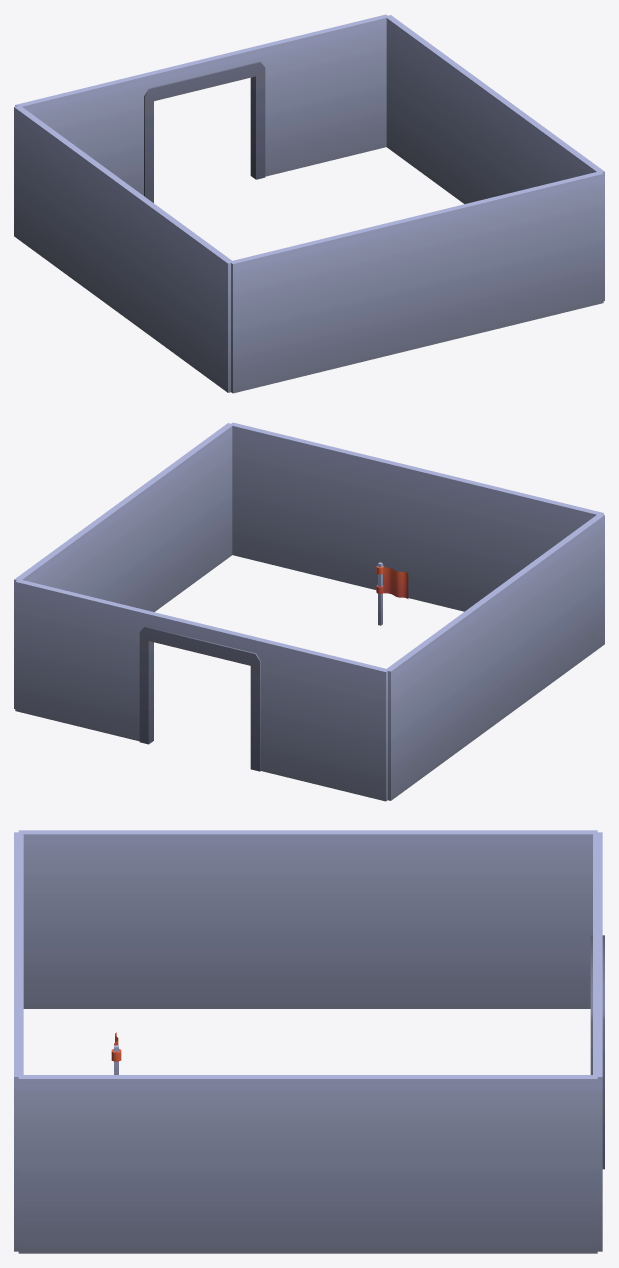
Rendered from laboratory.glb.
3 renders of one model, top to bottom at view 1: azimuth 30°, elevation 25°; view 2: azimuth 150°, elevation 25°; view 3: azimuth 270°, elevation 25°, orthographic. The views are drawn at different scales.
Visible parts, largest first — view 1: wall#O-B# (9), wall#O-B# (10), wall#O-B# (11), wall#O-B# (2), wall#O-B# (8), wall#O-B# (7), wall#O-B# (6), wall#O-B# (3), wall#O-B# (4), wall-doorway-garage#O-M#, wall#O-B# (1), wall#O-B# (5); view 2: wall#O-B# (2), wall#O-B# (11), wall#O-B# (1), wall#O-B# (10), wall#O-B# (6), wall#O-B# (7), wall#O-B# (8), wall#O-B# (5), wall#O-B# (4), wall-doorway-garage#O-M#, wall#O-B# (9), wall#O-B# (3) (+1 smaller); view 3: wall#O-B# (4), wall#O-B# (7), wall#O-B# (5), wall#O-B# (3), wall#O-B# (8), wall#O-B# (6), wall-doorway-garage#O-M#, wall#O-B# (2), wall#O-B# (11), wall#O-B# (10), wall#O-B# (9), wall#O-B# (1).
Boxes of the visible parts, x1,y1,x2,y2 form: wall#O-B# (9): (229,231,356,393); wall#O-B# (10): (353,201,479,362); wall#O-B# (11): (477,172,603,332); wall#O-B# (2): (263,14,388,174); wall#O-B# (8): (156,210,231,392); wall#O-B# (7): (85,157,162,340); wall#O-B# (6): (14,106,90,287); wall#O-B# (3): (386,15,461,197); wall#O-B# (4): (456,67,533,203); wall-doorway-garage#O-M#: (131,43,273,202); wall#O-B# (1): (15,75,142,194); wall#O-B# (5): (527,119,604,300); wall#O-B# (2): (15,579,141,740); wall#O-B# (11): (230,422,355,584); wall#O-B# (1): (263,639,388,801); wall#O-B# (10): (353,452,479,611); wall#O-B# (6): (385,618,462,800); wall#O-B# (7): (456,565,533,748); wall#O-B# (8): (528,514,604,695); wall#O-B# (5): (157,423,233,605); wall#O-B# (4): (85,475,162,611); wall-doorway-garage#O-M#: (133,607,272,772); wall#O-B# (9): (476,483,603,602); wall#O-B# (3): (14,527,91,708); wall#O-B# (4): (211,1075,404,1253); wall#O-B# (7): (211,830,404,1008); wall#O-B# (5): (18,1075,211,1253); wall#O-B# (3): (404,1075,597,1253); wall#O-B# (8): (18,830,211,1008); wall#O-B# (6): (404,830,597,1008); wall-doorway-garage#O-M#: (590,908,604,1169); wall#O-B# (2): (593,995,602,1251); wall#O-B# (11): (14,995,23,1251); wall#O-B# (10): (14,913,23,995); wall#O-B# (9): (14,832,23,913); wall#O-B# (1): (593,832,602,913).
Size of what is drawn, in the model's own units: 12.2 by 4 by 12.25.
Materials: 3 (3 with a texture image).
